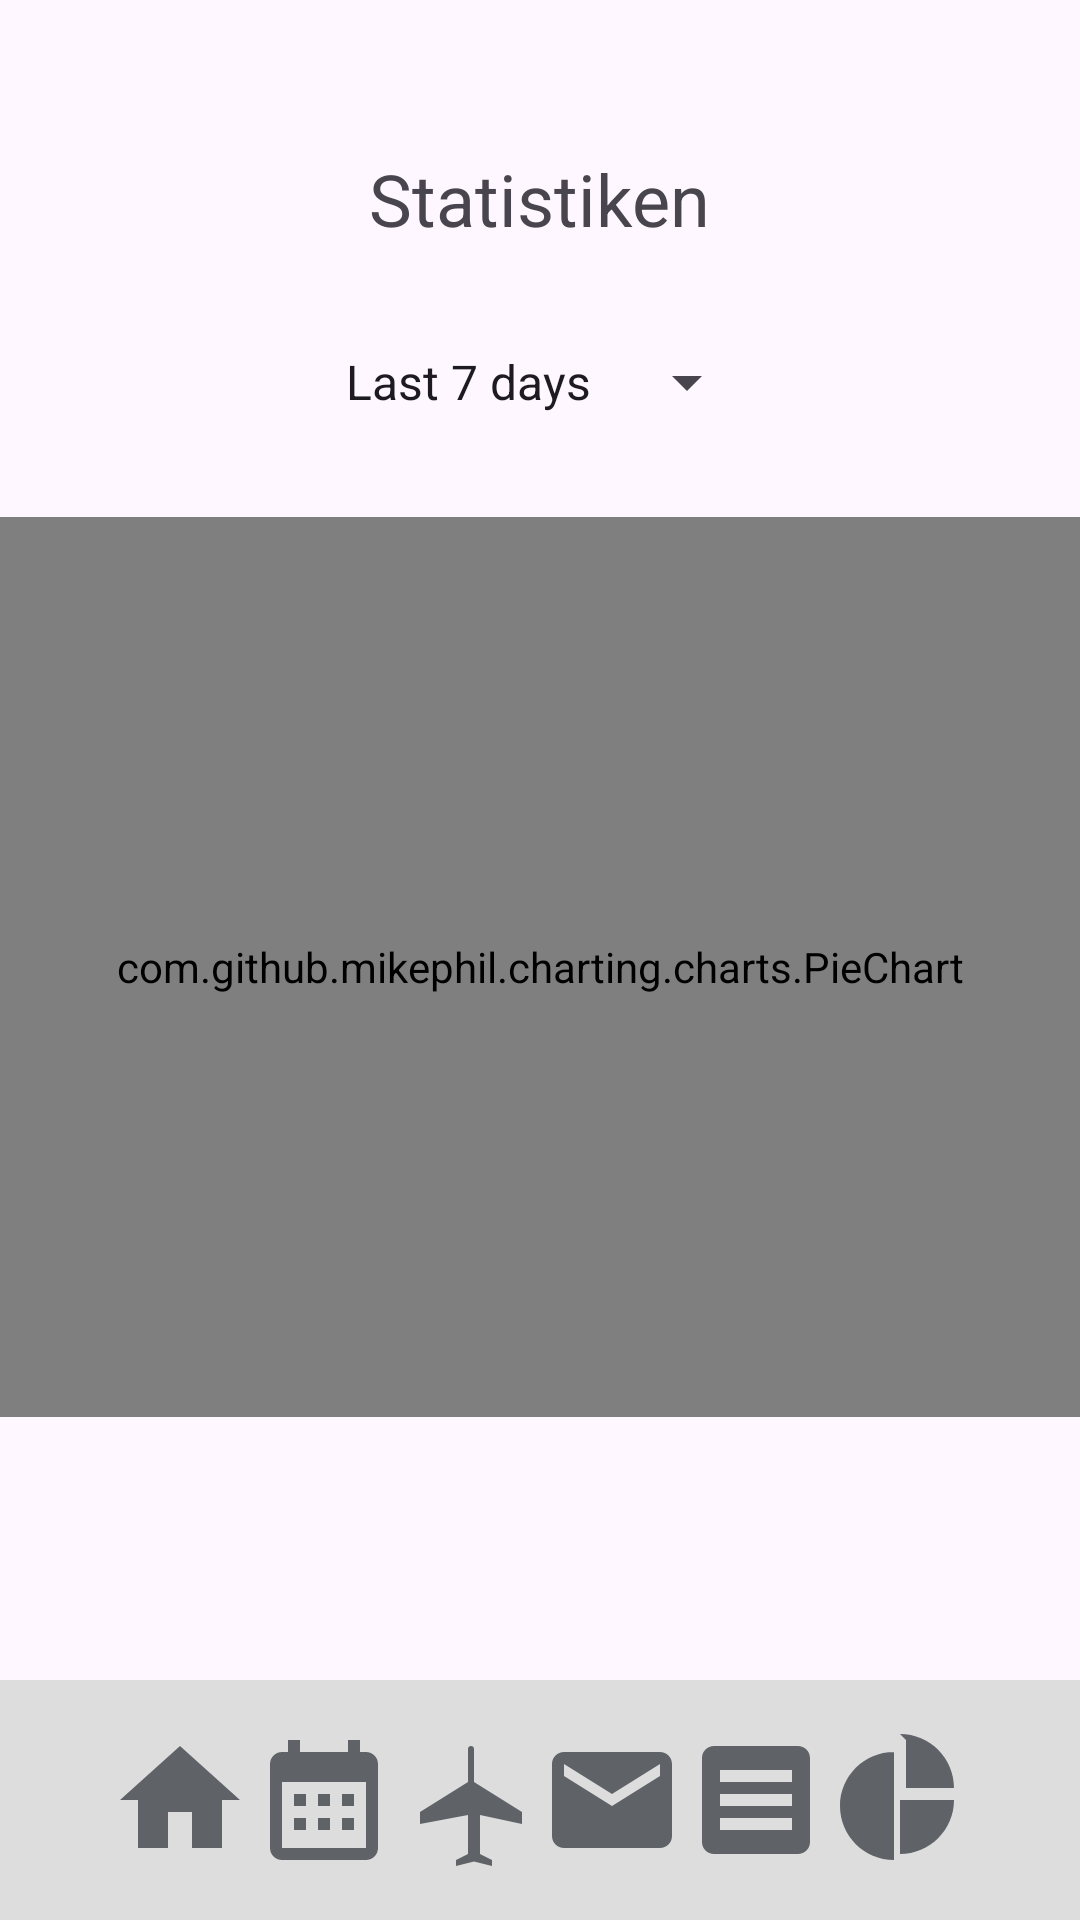

Icons on this 1080w x 1920h Android screen, each with its box as (x1, y1, x2, y2):
Absences: (420, 1746, 522, 1866)
Home: (120, 1746, 240, 1848)
Messages: (552, 1752, 672, 1848)
Reports: (702, 1746, 810, 1854)
Statistics: (840, 1734, 954, 1860)
Work Hours: (270, 1740, 378, 1860)
